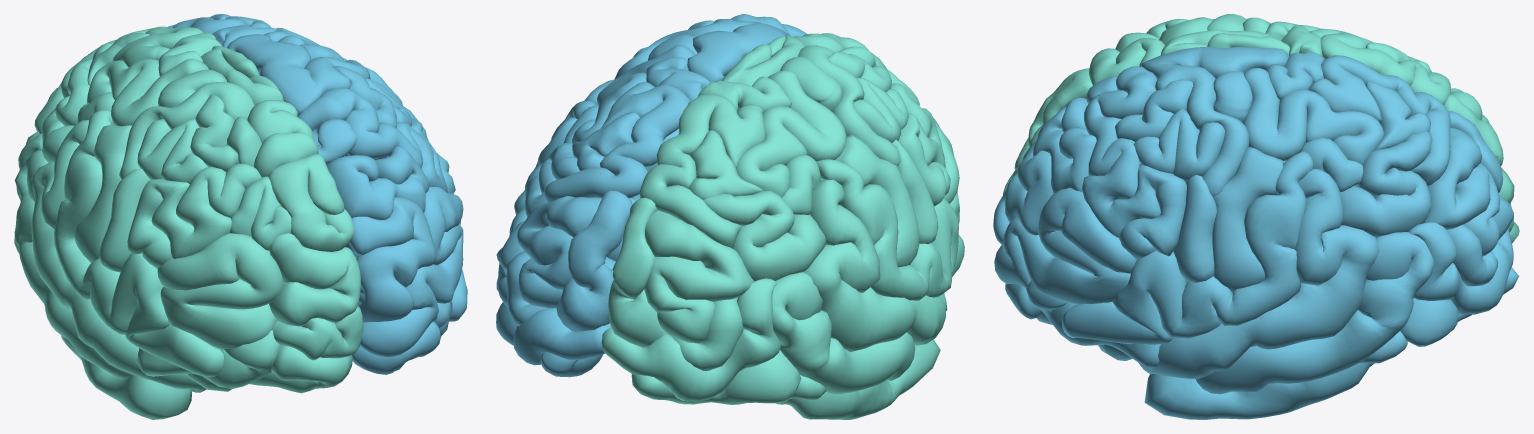
Rendered from brain_right_left.glb.
3 views of the same model, side by side, from view 1: azimuth 30°, elevation 25°; view 2: azimuth 150°, elevation 25°; view 3: azimuth 270°, elevation 25° (orthographic). The views are drawn at different scales.
Parts seen in each view (by area): view 1: BRAIN; view 2: BRAIN; view 3: BRAIN.
Boxes of the visible parts, bbox=[...] form: BRAIN: bbox=[14, 14, 467, 419]; BRAIN: bbox=[496, 14, 964, 419]; BRAIN: bbox=[993, 14, 1519, 419].
Bounding box in the file's own units: 14.6 × 12.24 × 18.51.
